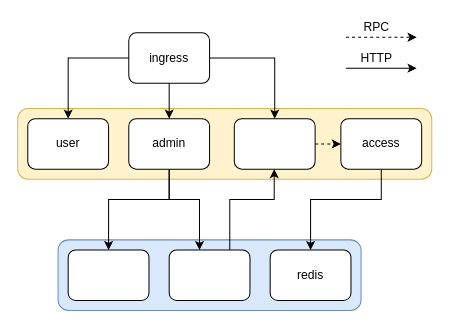
This 449x328 diagram has some shape labels left out. The centre of each missing label's shape, as x and y in pixels:
mysql: the point at 108,274
rabbitmq: the point at 209,274
spike: the point at 274,143
